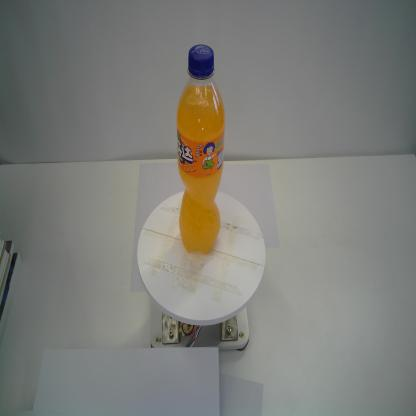Drink: (176, 42, 226, 259)
